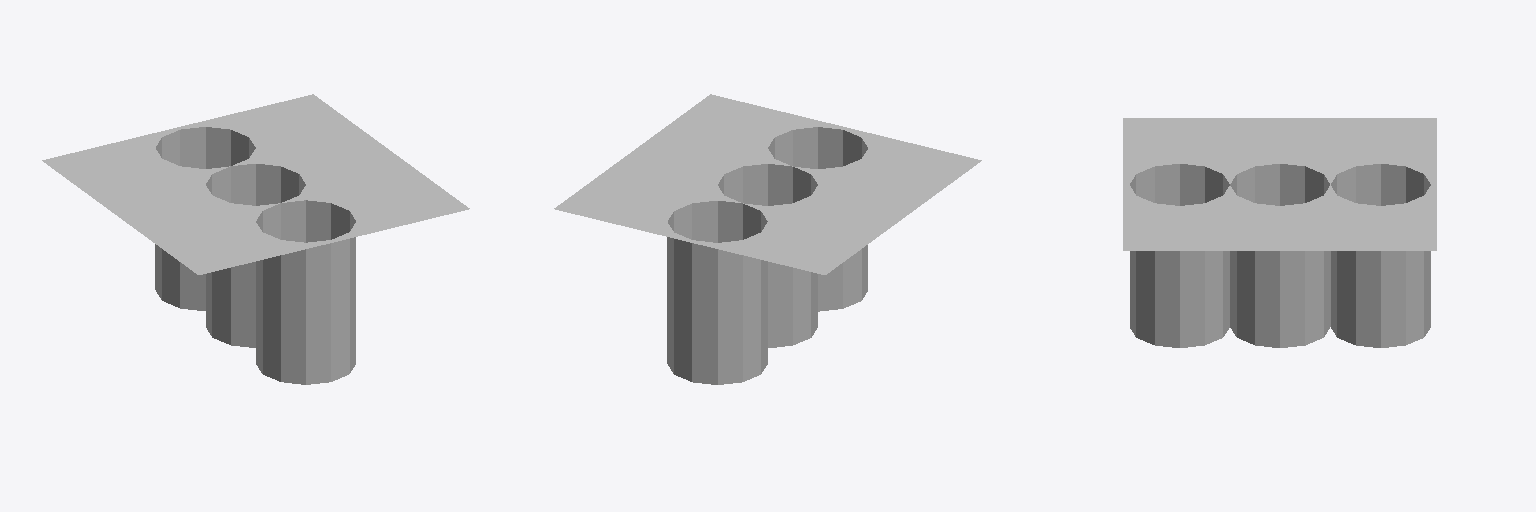
Rendered from floor_spikes_32x32.obj.
3 renders of one model, left to right at view 1: azimuth 30°, elevation 25°; view 2: azimuth 150°, elevation 25°; view 3: azimuth 270°, elevation 25°, orthographic.
Visible parts, largest first — view 1: Plane.125_Plane.023; view 2: Plane.125_Plane.023; view 3: Plane.125_Plane.023.
Part boxes in pixels (x1,y1,x2,y2): Plane.125_Plane.023: (42,94,469,384); Plane.125_Plane.023: (554,94,981,384); Plane.125_Plane.023: (1123,118,1436,347).
Bounding box in the file's own units: 32 × 16 × 32.